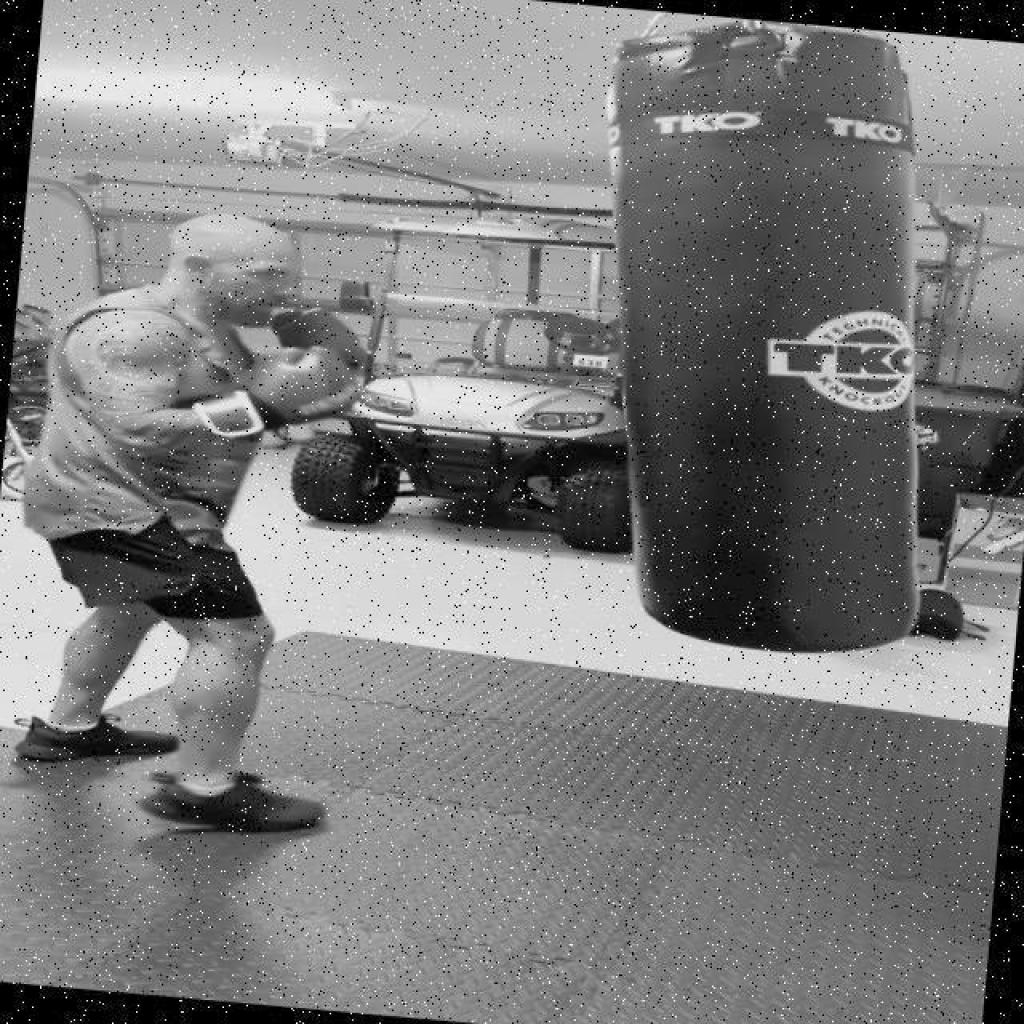bag: (525, 10, 974, 675)
no punch: (72, 198, 390, 482)
